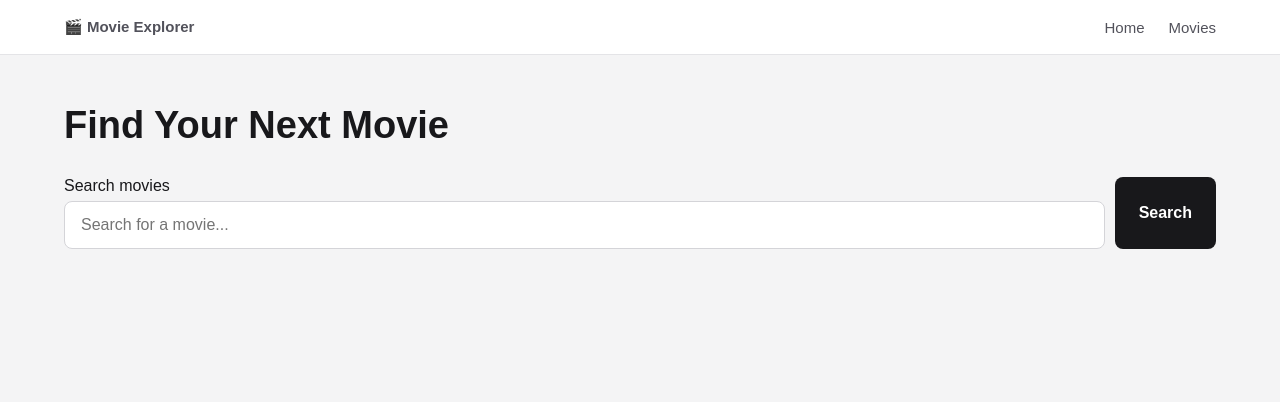
App integration tests › shows an error message when the movie search API fails
The image size is (1280, 402).
In the field with placeholder "Search for a movie...": coordinates (584, 225) [64,201,1105,249], type "Inception"
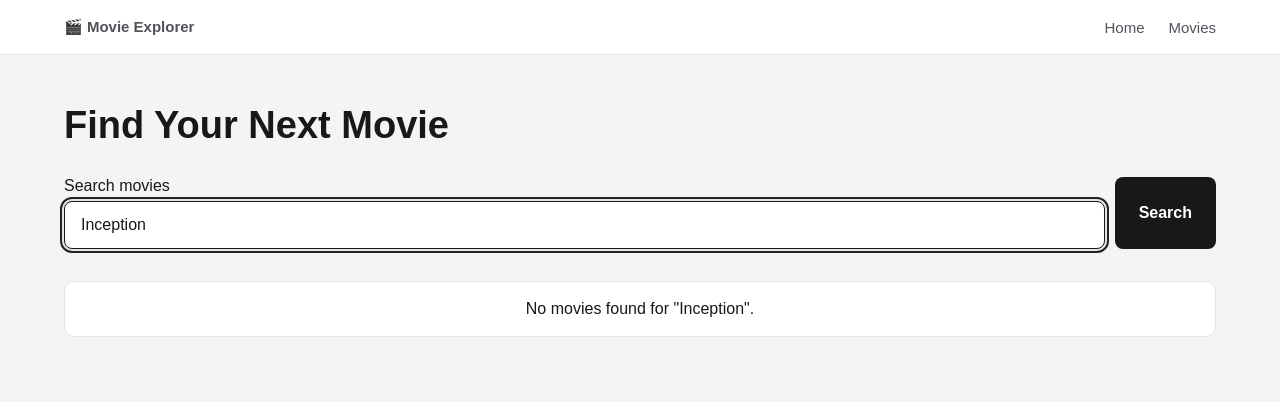
Click the button "Search": coordinates (1165, 213) [1115,177,1216,249]
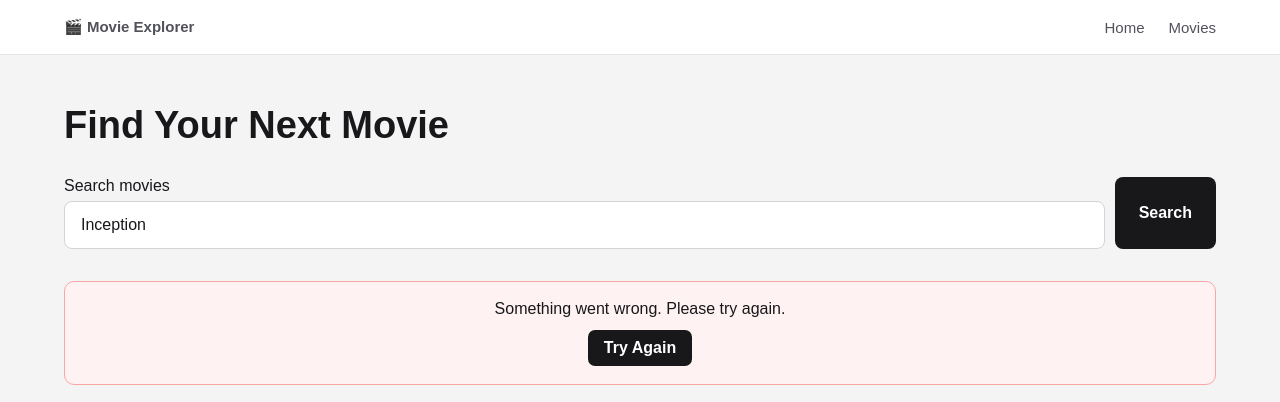
Expected: the text "Something went wrong. Please try again." is shown, [495,300,785,317]
